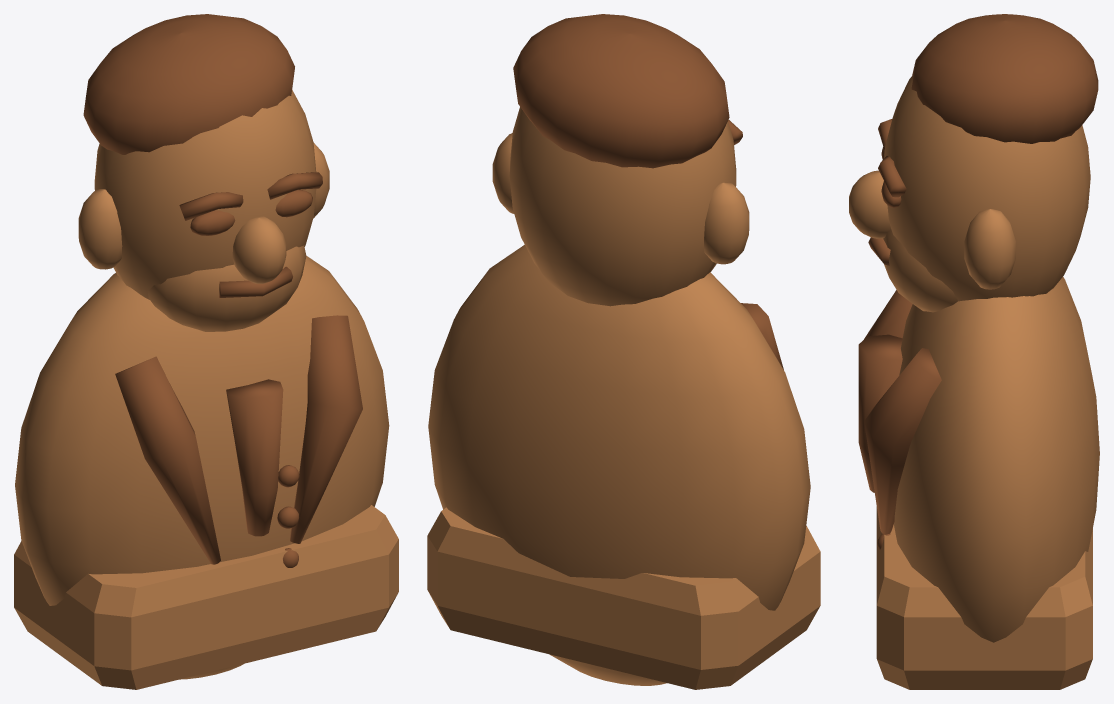
Rendered from coach-4.glb.
The picture shows the model from 3 angles, left to right: view 1: azimuth 30°, elevation 25°; view 2: azimuth 150°, elevation 25°; view 3: azimuth 270°, elevation 25°; orthographic projection. The views are drawn at different scales.
Visible parts, largest first — view 1: coach-4 · Cast bronze, coach-4 · Bronze patina, coach-4 · Cast bronze.001; view 2: coach-4 · Cast bronze, coach-4 · Cast bronze.001, coach-4 · Bronze patina; view 3: coach-4 · Cast bronze, coach-4 · Bronze patina, coach-4 · Cast bronze.001.
Part boxes in pixels (x1,y1,x2,y2): coach-4 · Cast bronze: [15, 89, 389, 679]; coach-4 · Bronze patina: [83, 14, 362, 567]; coach-4 · Cast bronze.001: [14, 505, 398, 689]; coach-4 · Cast bronze: [428, 107, 810, 685]; coach-4 · Cast bronze.001: [427, 507, 820, 689]; coach-4 · Bronze patina: [513, 14, 783, 369]; coach-4 · Cast bronze: [849, 76, 1099, 642]; coach-4 · Bronze patina: [858, 14, 1098, 550]; coach-4 · Cast bronze.001: [876, 507, 1092, 689].
Size of the model in its own units: 1.18 by 2.01 by 0.7085.
